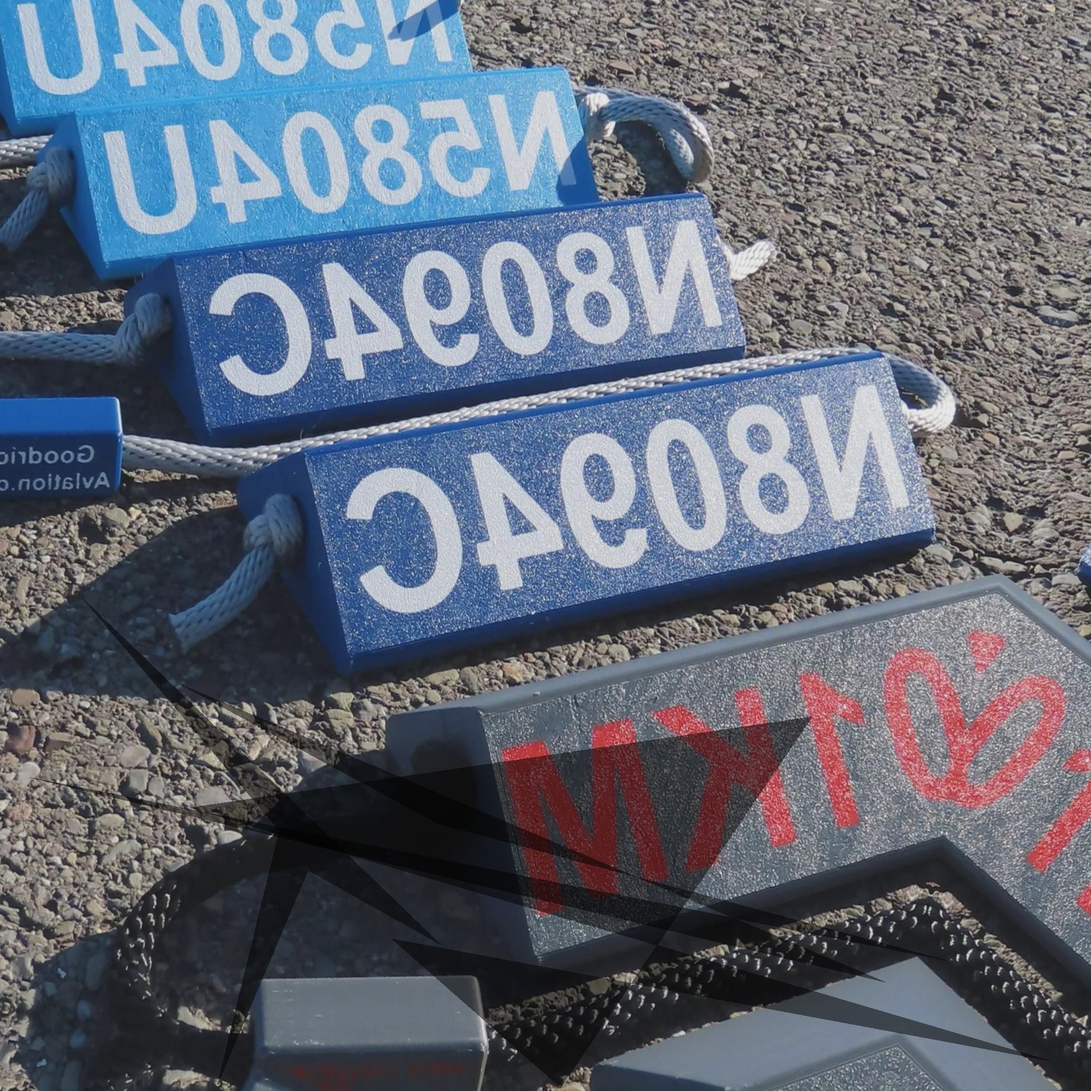chock: (197, 215, 985, 802), (336, 449, 998, 1067), (91, 76, 780, 561), (12, 0, 626, 387), (0, 0, 503, 229), (577, 892, 916, 1091)
